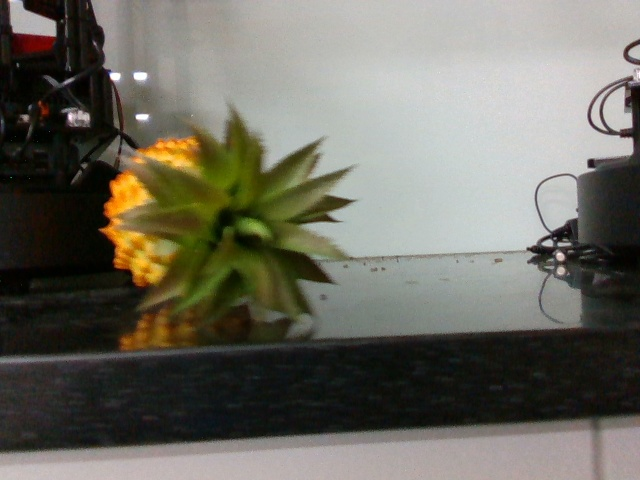pineapple: (98, 129, 351, 323)
